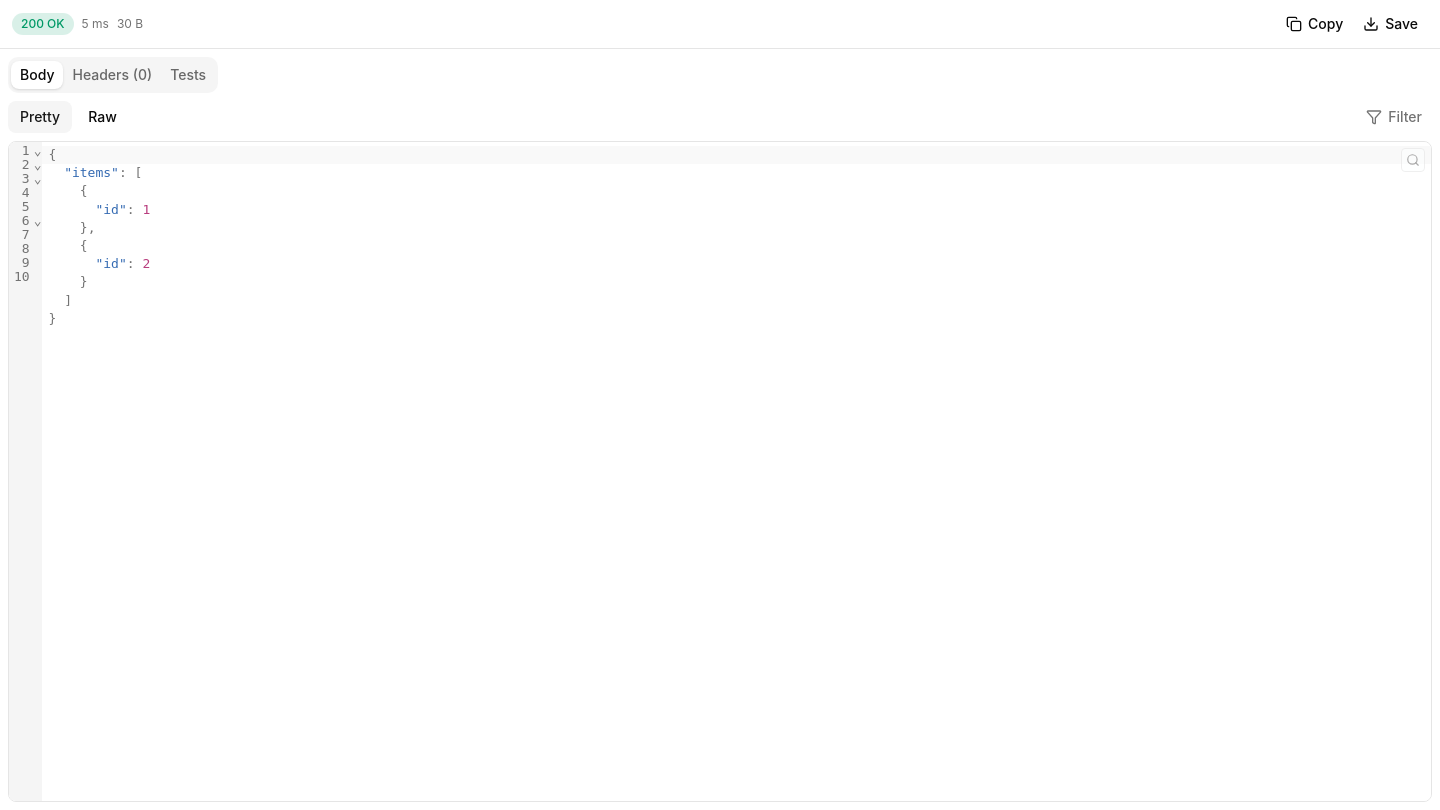
Test: JSONPath filter › shows the filtered result, and errors under the field
Click the button with aria-label "Filter with JSONPath" at (1394, 117), box 1356,101 -> 1432,133
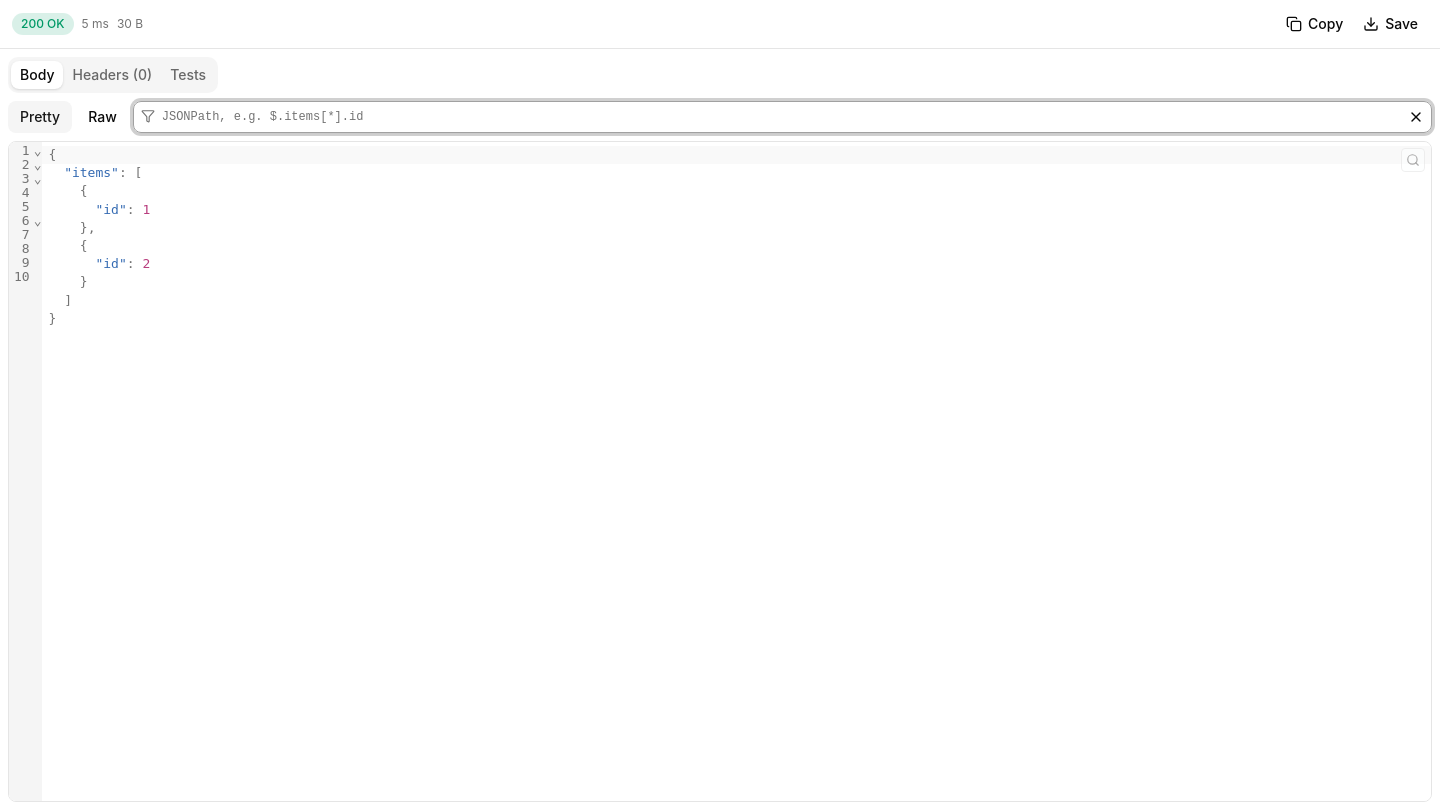
Type "$.items[*].id" into the field named "JSONPath filter" at (782, 117), box 133,101 -> 1432,133
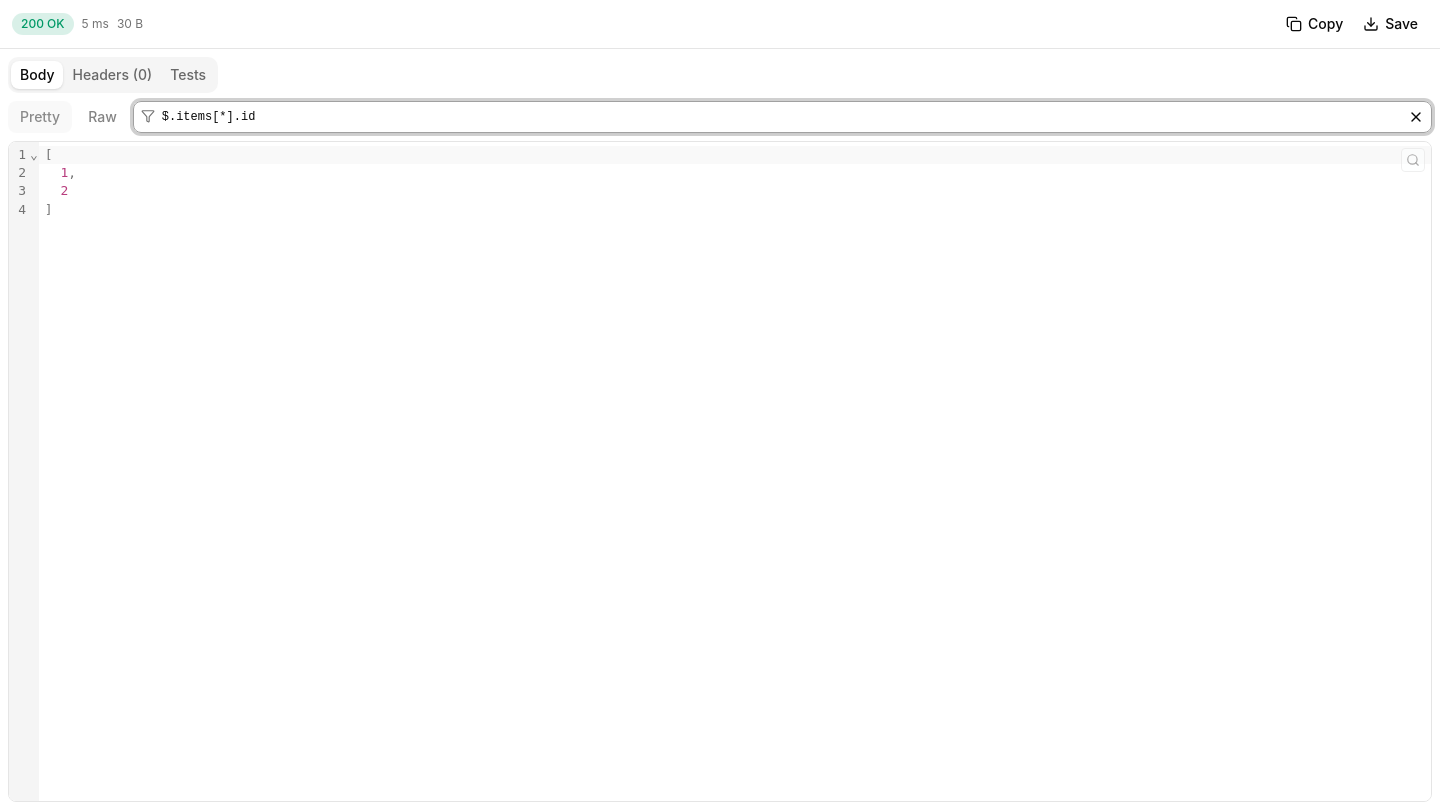
Replace the text in the field named "JSONPath filter" with "$.items[" at (782, 117), box 133,101 -> 1432,133
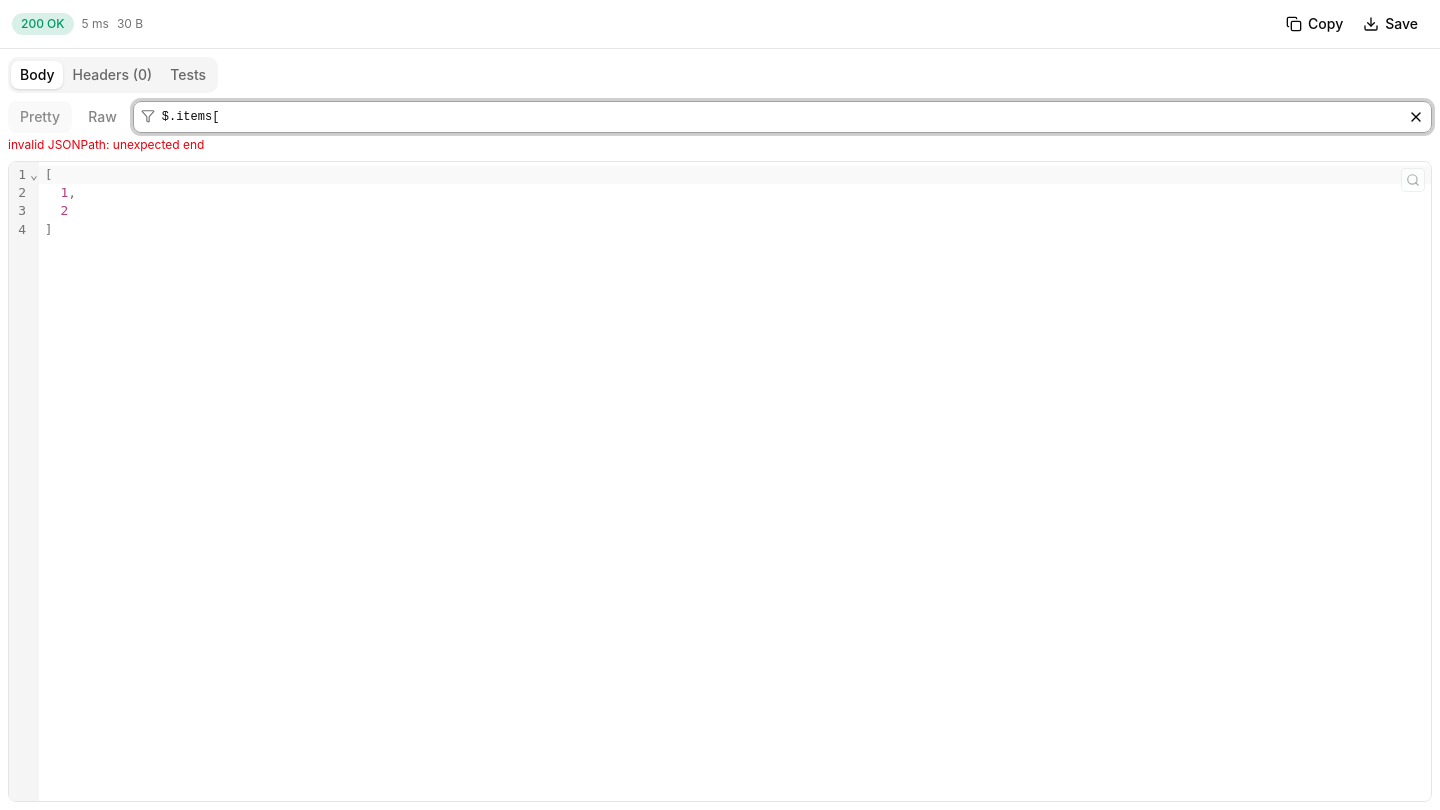
Check: the text "invalid JSONPath: unexpected end" is shown, box 8,137 -> 204,152
Clear the field named "JSONPath filter" at (782, 117), box 133,101 -> 1432,133
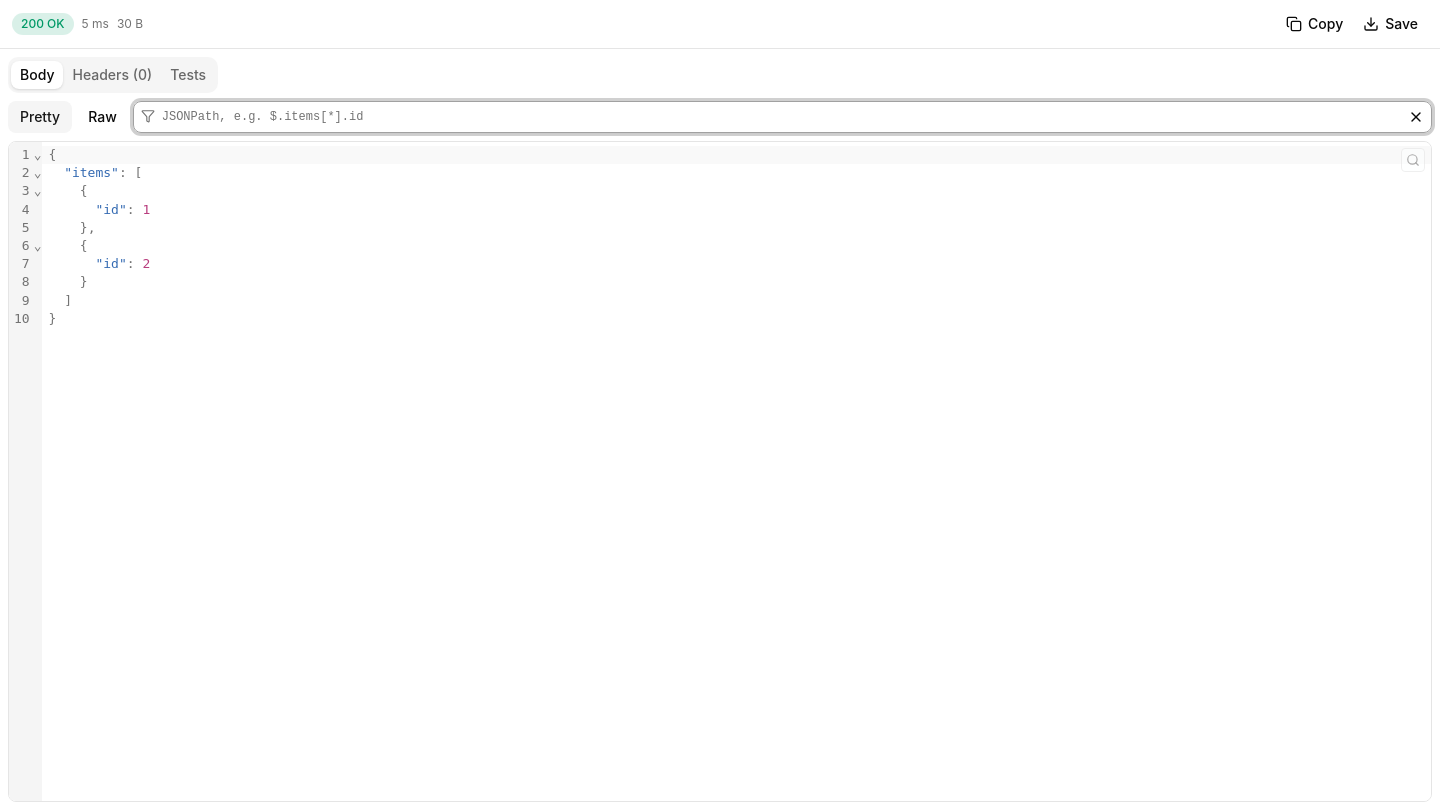
Check: the field with class "cm-content" shows "\"items\"", box 42,146 -> 1431,326
